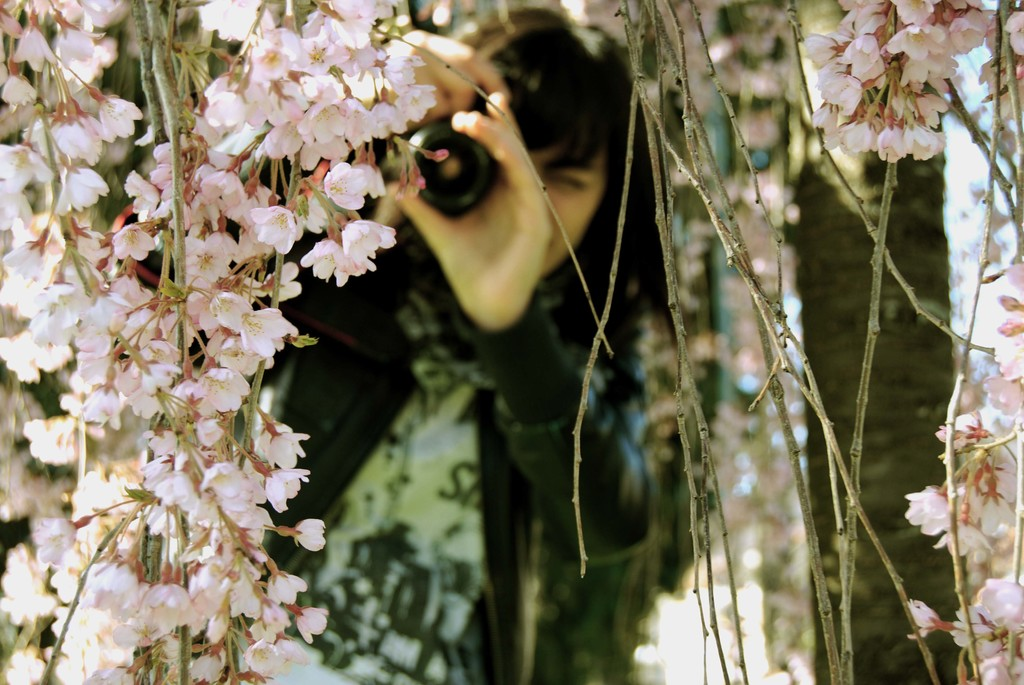Human-face: (525, 120, 610, 282)
